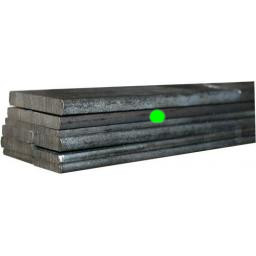focus: (147, 107, 167, 126)
